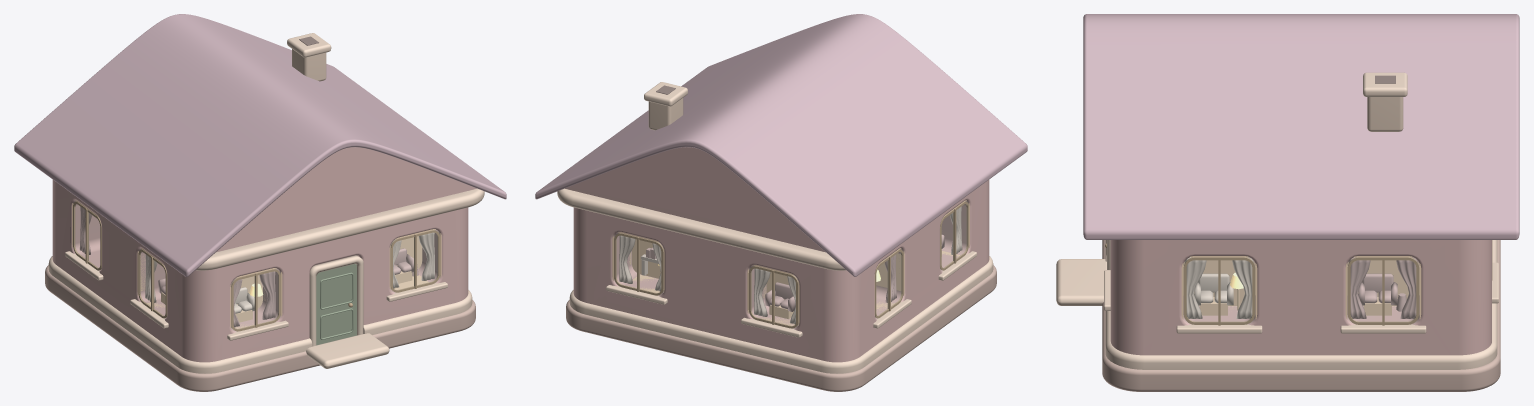
The model's file is blush.glb.
The picture shows the model from 3 angles, left to right: view 1: azimuth 30°, elevation 25°; view 2: azimuth 150°, elevation 25°; view 3: azimuth 270°, elevation 25°; orthographic projection. The views are drawn at different scales.
Visible parts, largest first — view 1: cottage-pink__house61_roof_rose, cottage-pink__arch59_blush, cottage-pink__arch59_pillow_trim, cottage-pink__arch59_roof_stone, cottage-pink__room59_glass_sage, cottage-pink__door61_sage, cottage-pink__arch59_champagne_frame, cottage-pink__room59_warm_backing, cottage-pink__room59_curtain_blush, cottage-pink__room59_curtain_ivory, cottage-pink__arch59_cream; view 2: cottage-pink__house61_roof_rose, cottage-pink__arch59_blush, cottage-pink__arch59_pillow_trim, cottage-pink__arch59_roof_stone, cottage-pink__room59_glass_sage, cottage-pink__arch59_champagne_frame, cottage-pink__room59_warm_backing, cottage-pink__room59_curtain_ivory, cottage-pink__room59_curtain_blush, cottage-pink__arch59_cream; view 3: cottage-pink__house61_roof_rose, cottage-pink__arch59_blush, cottage-pink__arch59_pillow_trim, cottage-pink__arch59_roof_stone, cottage-pink__room59_glass_sage, cottage-pink__room59_warm_backing, cottage-pink__room59_curtain_blush, cottage-pink__room59_curtain_ivory, cottage-pink__arch59_champagne_frame, cottage-pink__arch59_cream.
Part boxes in pixels (x1,y1,x2,y2): cottage-pink__house61_roof_rose: [14, 14, 506, 276]; cottage-pink__arch59_blush: [52, 147, 476, 362]; cottage-pink__arch59_pillow_trim: [48, 33, 484, 373]; cottage-pink__arch59_roof_stone: [45, 265, 475, 391]; cottage-pink__room59_glass_sage: [74, 201, 439, 331]; cottage-pink__door61_sage: [316, 264, 356, 345]; cottage-pink__arch59_champagne_frame: [73, 201, 440, 331]; cottage-pink__room59_warm_backing: [72, 200, 441, 328]; cottage-pink__room59_curtain_blush: [79, 206, 418, 327]; cottage-pink__room59_curtain_ivory: [145, 232, 434, 313]; cottage-pink__arch59_cream: [292, 49, 326, 81]; cottage-pink__house61_roof_rose: [535, 14, 1027, 276]; cottage-pink__arch59_blush: [565, 147, 989, 362]; cottage-pink__arch59_pillow_trim: [557, 82, 993, 373]; cottage-pink__arch59_roof_stone: [566, 265, 996, 391]; cottage-pink__room59_glass_sage: [614, 201, 967, 328]; cottage-pink__arch59_champagne_frame: [614, 201, 968, 328]; cottage-pink__room59_warm_backing: [612, 200, 969, 325]; cottage-pink__room59_curtain_ivory: [619, 206, 962, 324]; cottage-pink__room59_curtain_blush: [646, 234, 944, 311]; cottage-pink__arch59_cream: [648, 98, 683, 130]; cottage-pink__house61_roof_rose: [1083, 14, 1519, 239]; cottage-pink__arch59_blush: [1110, 240, 1491, 355]; cottage-pink__arch59_pillow_trim: [1056, 72, 1498, 369]; cottage-pink__arch59_roof_stone: [1102, 240, 1500, 391]; cottage-pink__room59_glass_sage: [1184, 258, 1418, 323]; cottage-pink__room59_warm_backing: [1181, 256, 1421, 319]; cottage-pink__room59_curtain_blush: [1349, 257, 1417, 318]; cottage-pink__room59_curtain_ivory: [1185, 257, 1253, 318]; cottage-pink__arch59_champagne_frame: [1105, 240, 1492, 325]; cottage-pink__arch59_cream: [1367, 97, 1403, 131].
Bounding box in the file's own units: 9.75 × 6.57 × 9.72.
